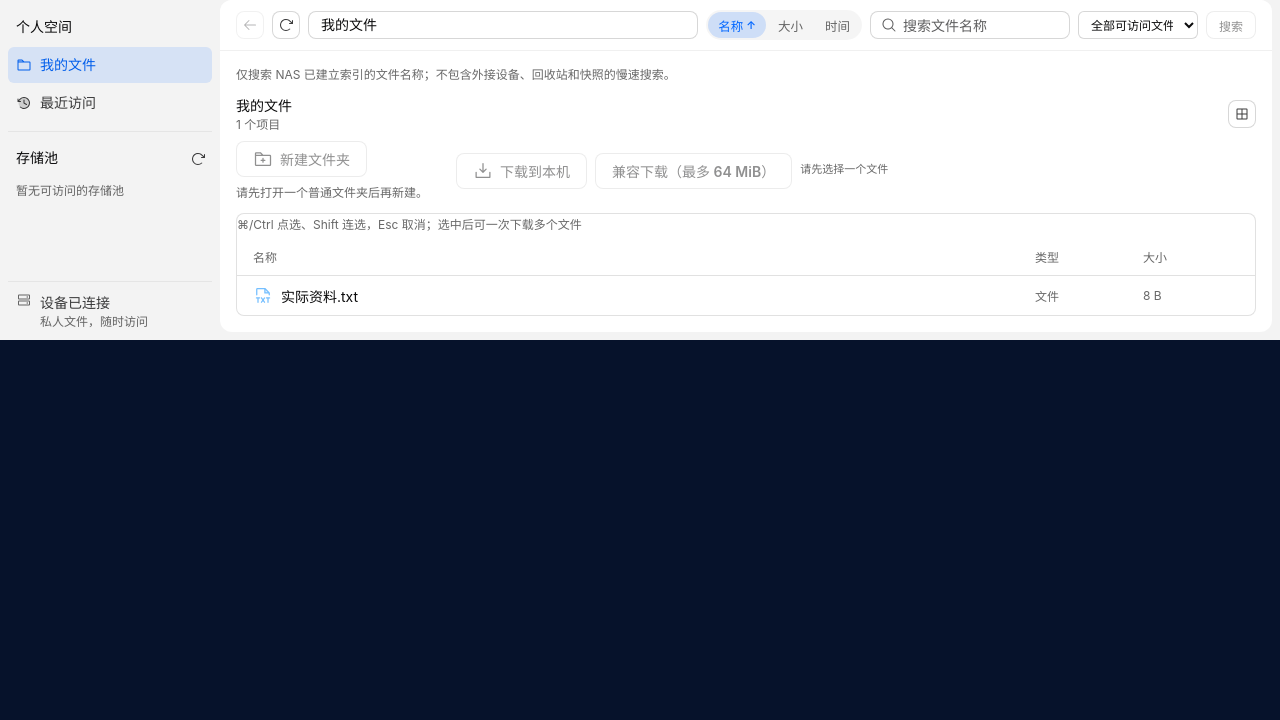
it: offers compatible H5 action with a visible size limit and missing-identity feedback
Click the button "实际资料.txt 文件 8 B". click: click(320, 296)
box: [237, 275, 1255, 315]
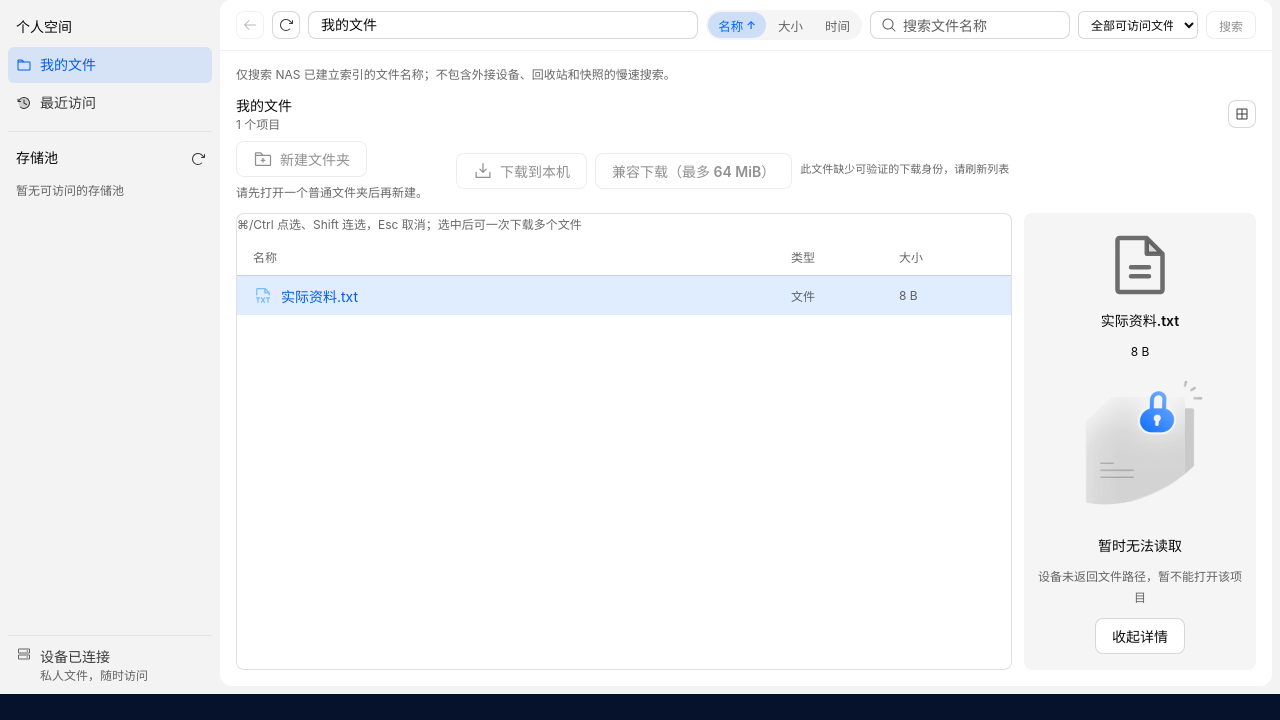
Expected: the button "下载到本机" is disabled, [456, 153, 587, 189]
Expected: the text "此文件缺少可验证的下载身份，请刷新列表" is shown, [800, 162, 1009, 176]
